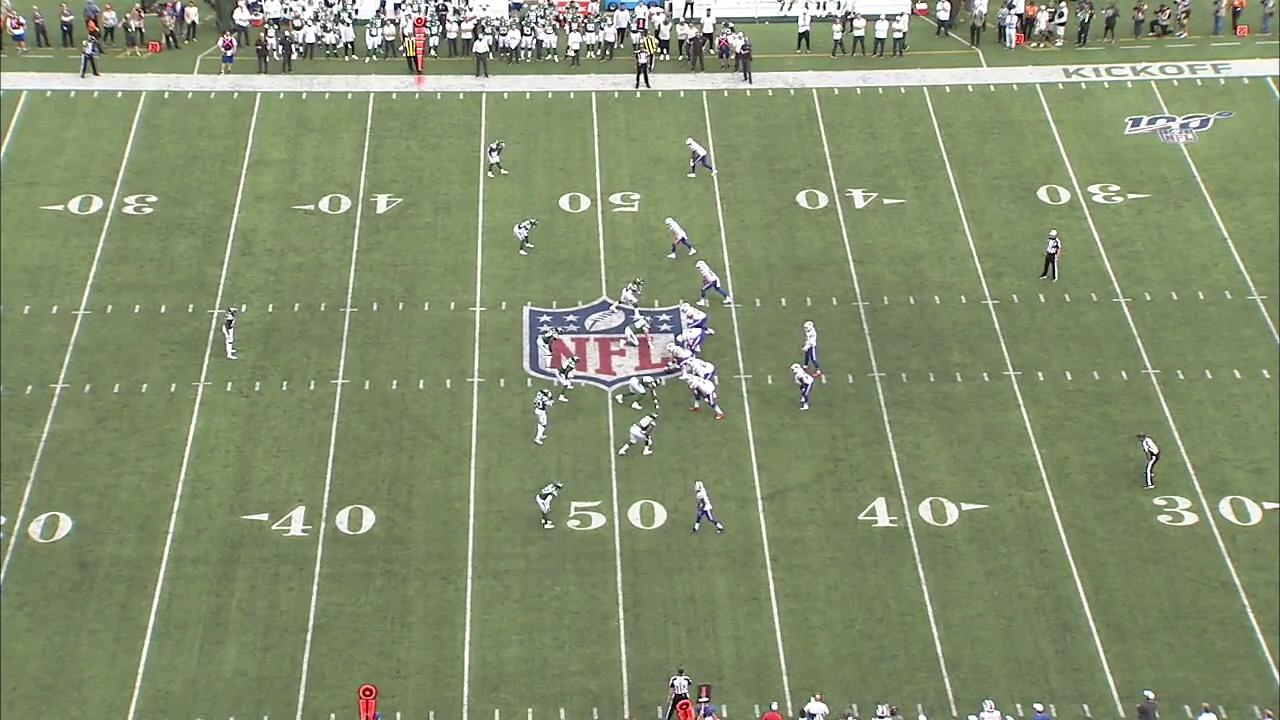defense: (617, 410, 660, 457), (613, 374, 663, 411), (533, 478, 566, 530), (607, 275, 646, 319), (530, 387, 556, 446), (535, 325, 566, 371), (554, 354, 582, 403), (618, 314, 656, 350), (220, 304, 241, 362), (512, 216, 541, 257), (485, 136, 512, 180)
oline: (684, 374, 726, 422), (680, 303, 716, 337), (665, 341, 693, 380), (675, 327, 705, 357), (686, 356, 716, 381)
qb: (798, 319, 823, 379)
ref: (662, 664, 699, 720), (1136, 432, 1165, 494), (77, 35, 106, 81), (1041, 228, 1064, 284), (633, 45, 654, 90)
skill: (687, 478, 728, 537), (693, 258, 733, 307), (683, 136, 719, 179), (663, 216, 698, 260), (789, 361, 815, 412)
